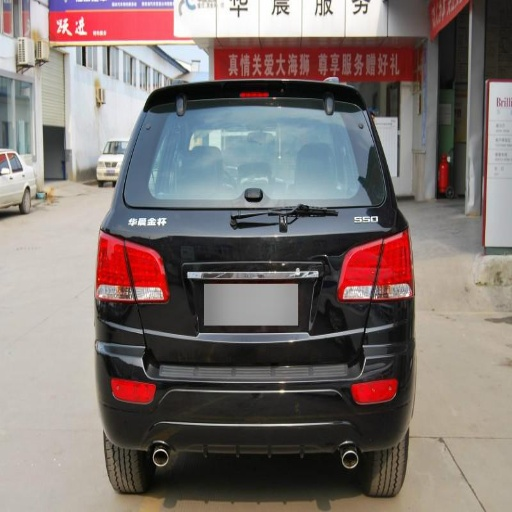back_bumper: (97, 297, 414, 456)
tailgate: (250, 307, 336, 335)
trunk: (117, 204, 386, 383)
